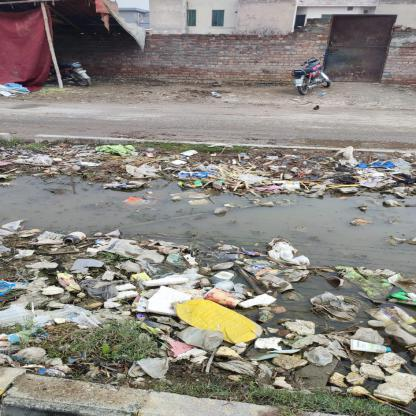Garbage: (1, 136, 415, 416)
